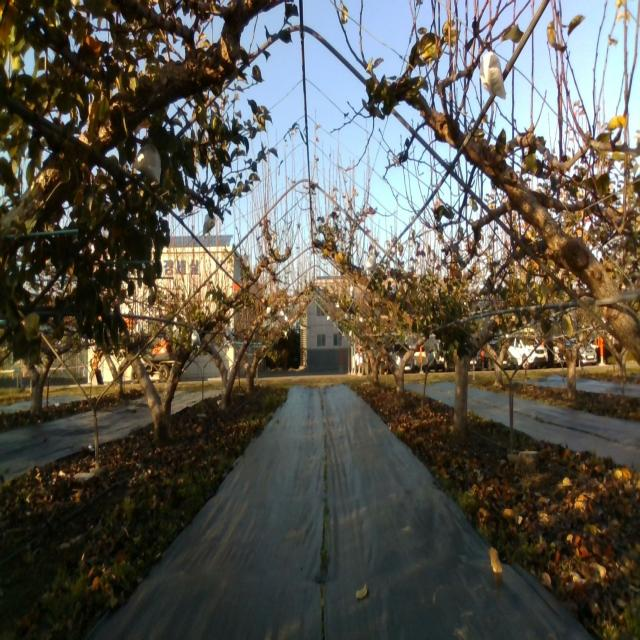pearbags: (132, 138, 162, 185), (480, 50, 506, 101), (202, 214, 216, 236)
